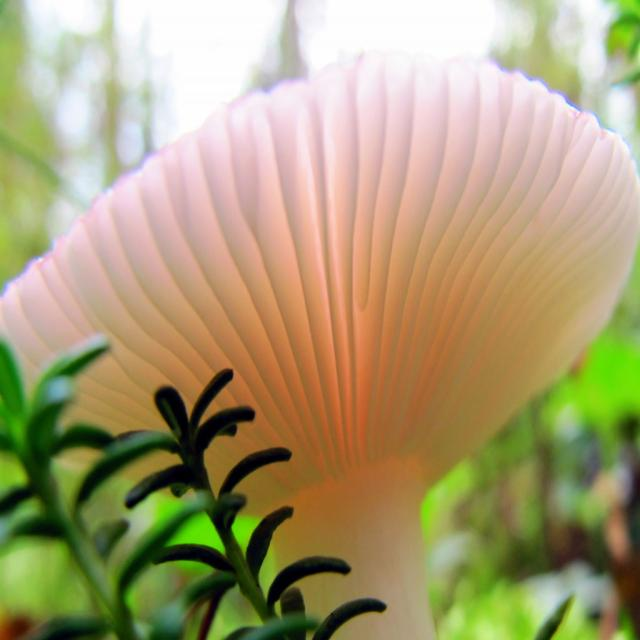mushroom: (1, 50, 640, 639)
